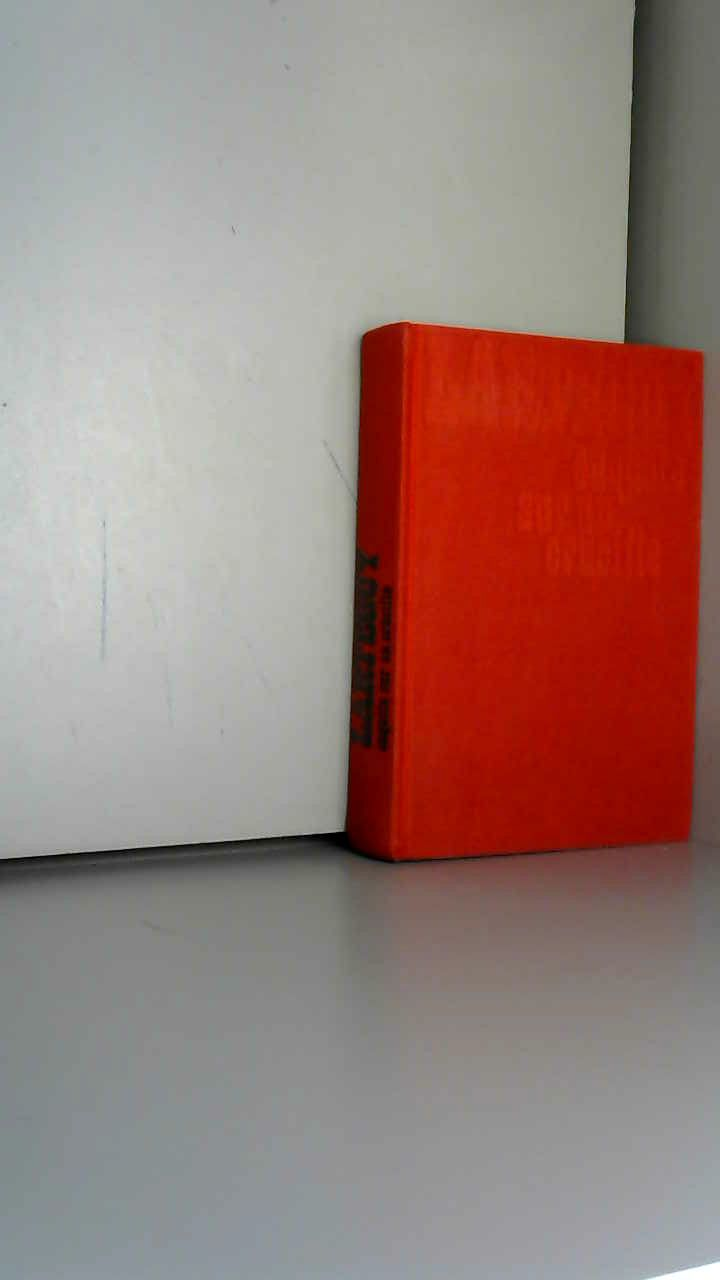book: (320, 300, 718, 892)
